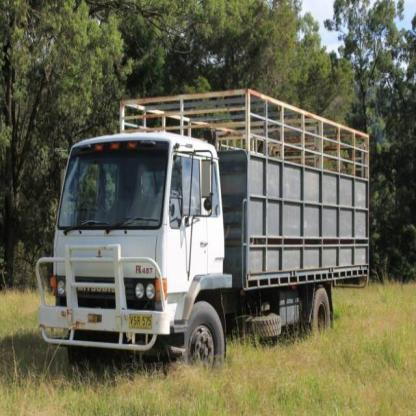truck: (37, 89, 370, 372)
